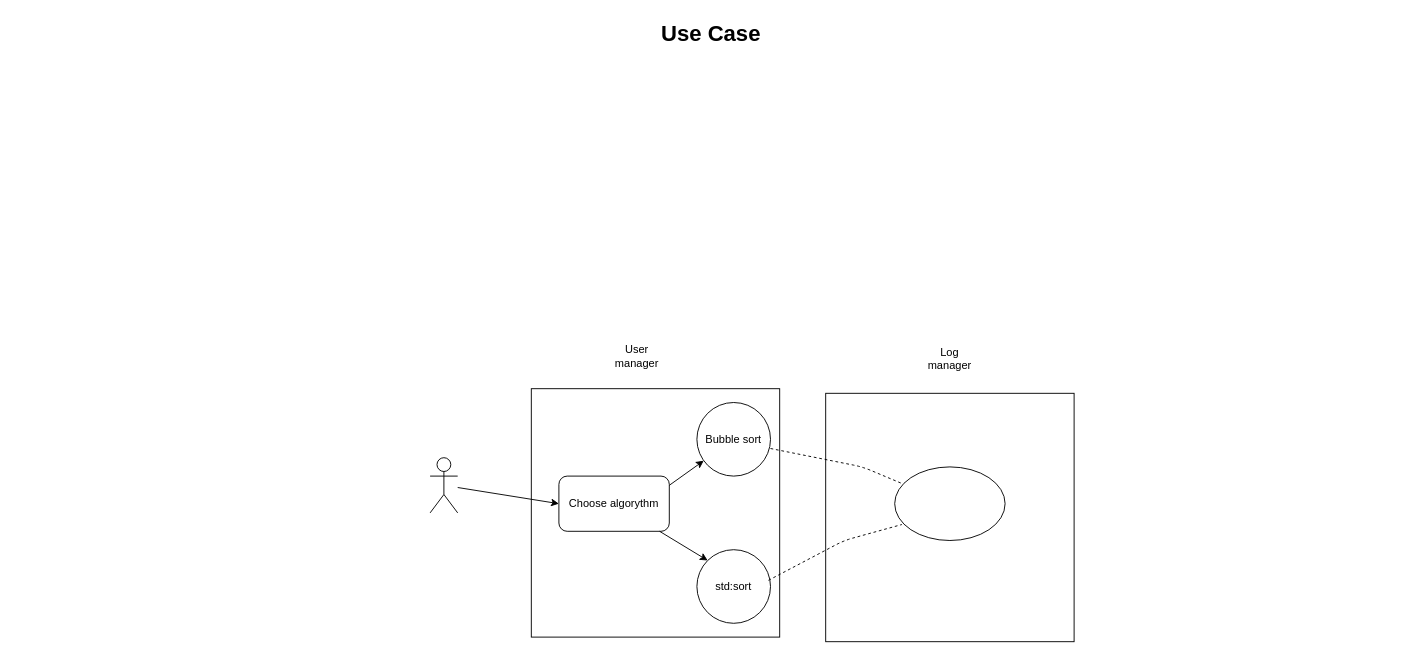
The diagram is 1420 pixels wide and 658 high, and some of its shapes have lost their labels. The shapes that lost their labels are listed below. From the top down, each one's box as (x1, y1, x2, y2) in pixels, then its label:
(429, 457, 458, 513): User
(894, 466, 1005, 540): Save results to compare table
